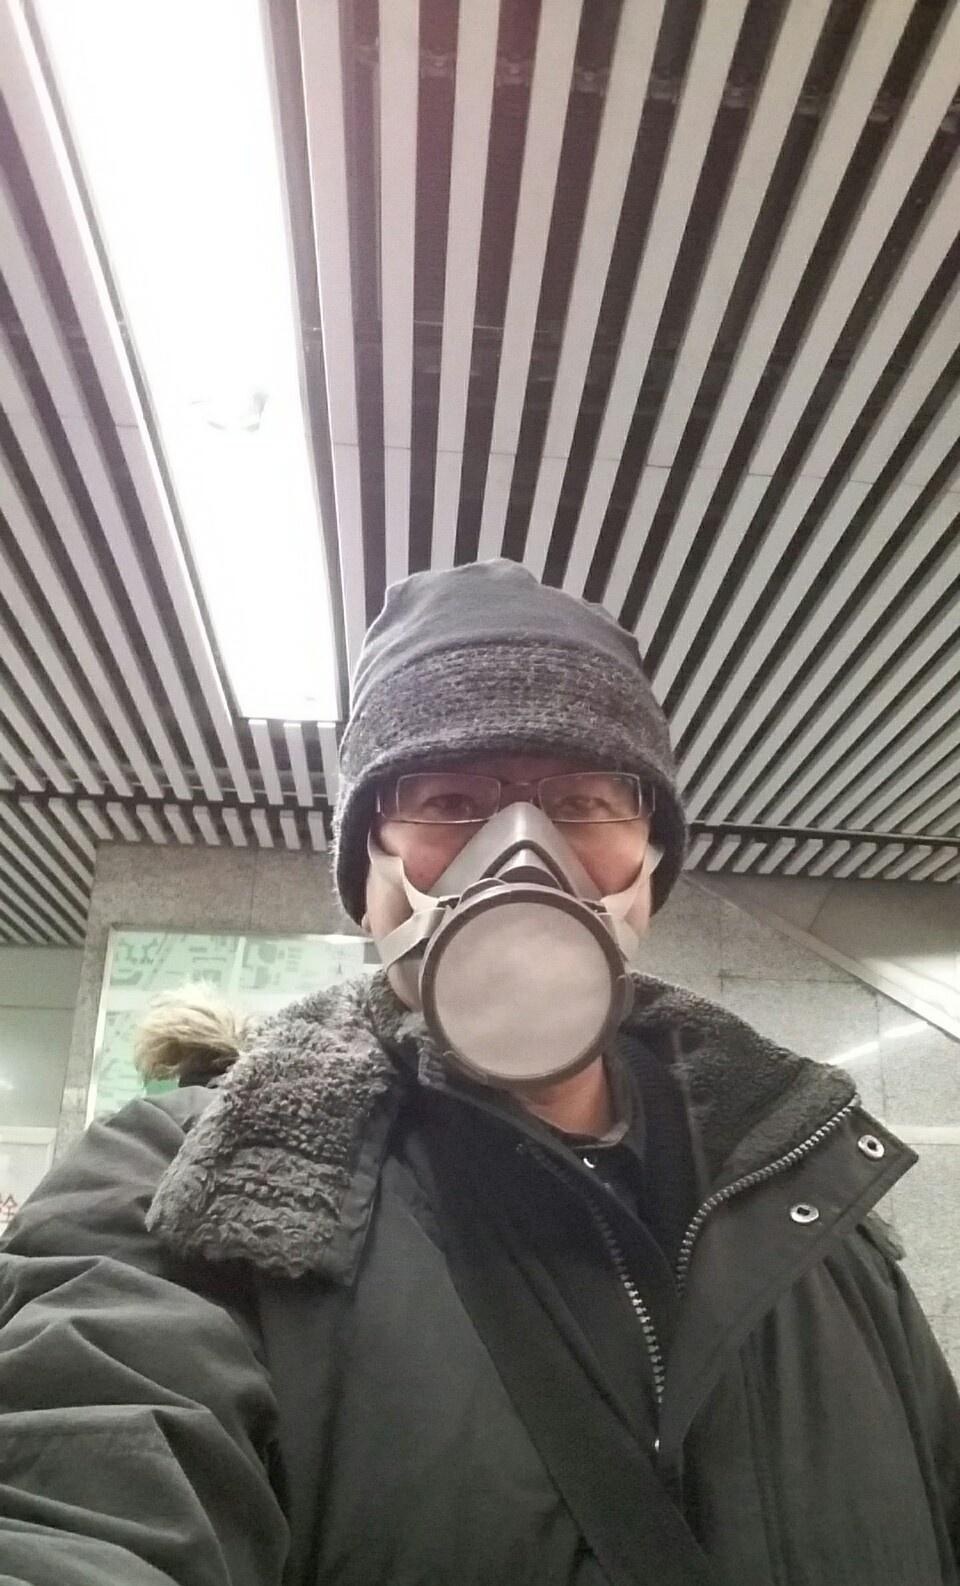Mask: (341, 727, 662, 1048)
